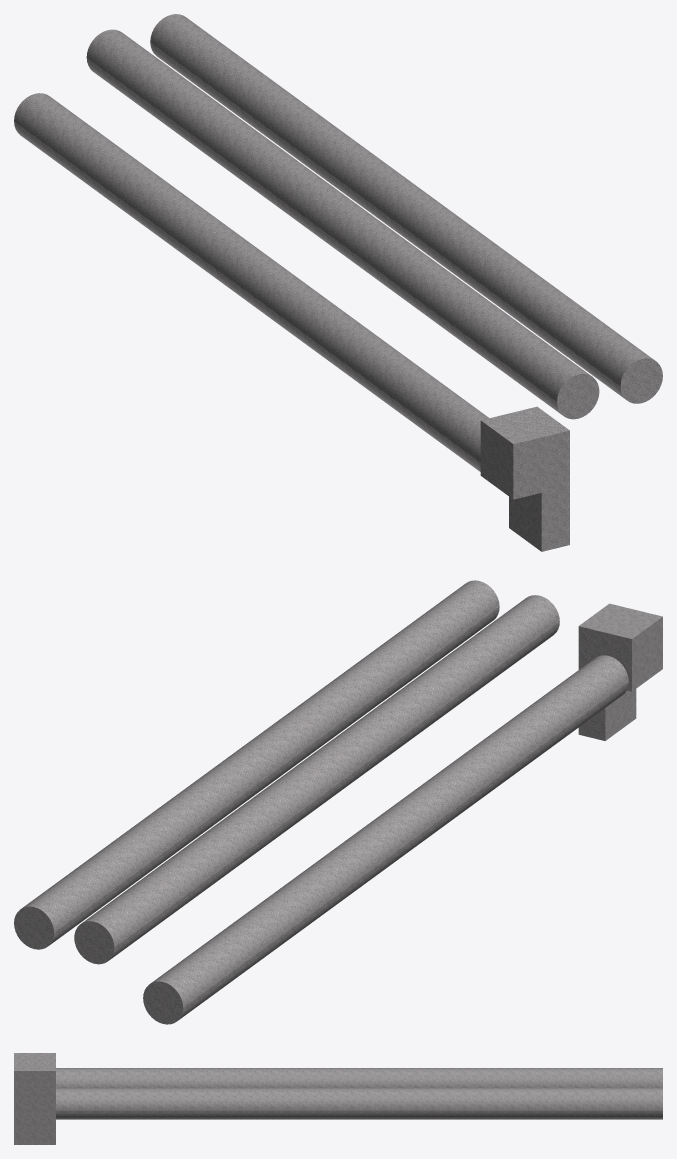
3 renders of one model, top to bottom at view 1: azimuth 30°, elevation 25°; view 2: azimuth 150°, elevation 25°; view 3: azimuth 270°, elevation 25°, orthographic. The views are drawn at different scales.
Parts seen in each view (by area): view 1: 0_3_1_2_1_0_2_3; view 2: 0_3_1_2_1_0_2_3; view 3: 0_3_1_2_1_0_2_3.
Part boxes in pixels (bbox=[...]): 0_3_1_2_1_0_2_3: bbox=[14, 14, 662, 551]; 0_3_1_2_1_0_2_3: bbox=[14, 580, 662, 1024]; 0_3_1_2_1_0_2_3: bbox=[14, 1053, 662, 1144].
Bounding box in the file's own units: 2.58 × 1.85 × 12.33.
Materials: 4 (4 with a texture image).
